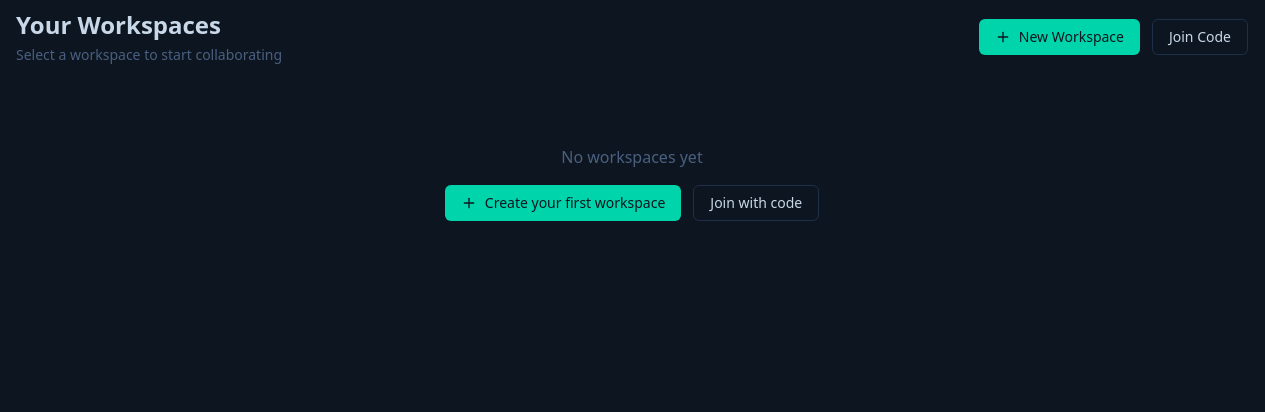
Test case: WorkspacesPage › should display error message when workspace creation fails
Click the button "New Workspace" at (1059, 37), box [979, 19, 1140, 55]
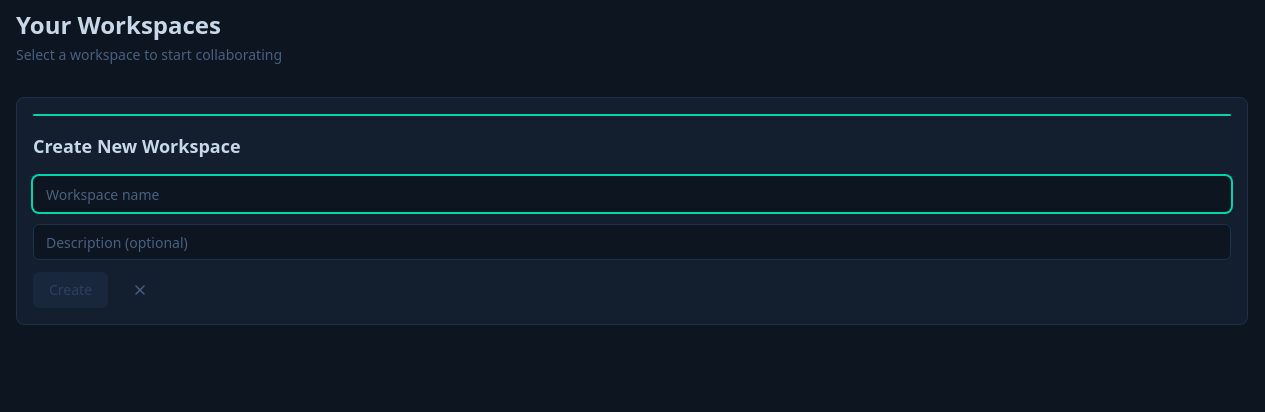
Now the heading "Create New Workspace" is shown, box [33, 134, 240, 158]
Type "Duplicate Name" into the field with placeholder "Workspace name" at (632, 194), box [33, 176, 1231, 212]
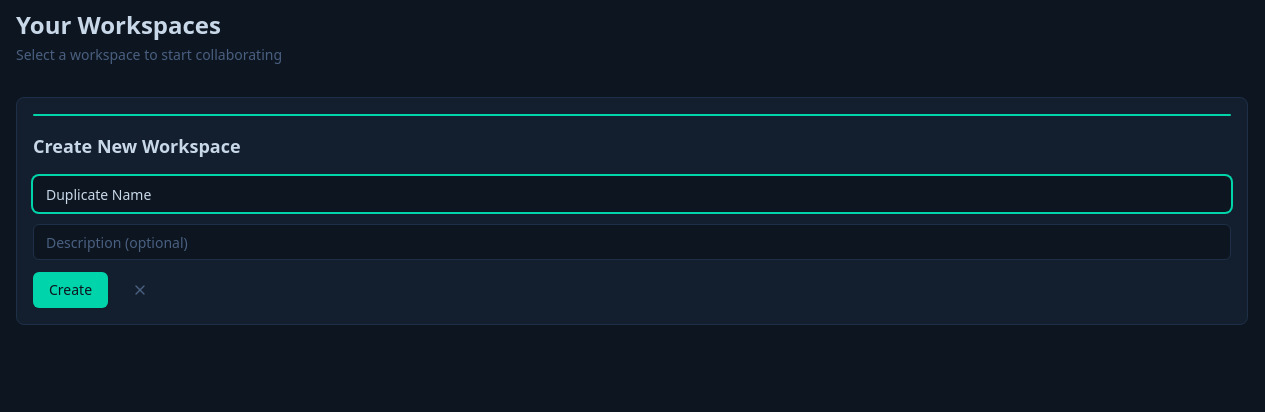
Click the button "Create" at (71, 290), box [33, 272, 108, 308]
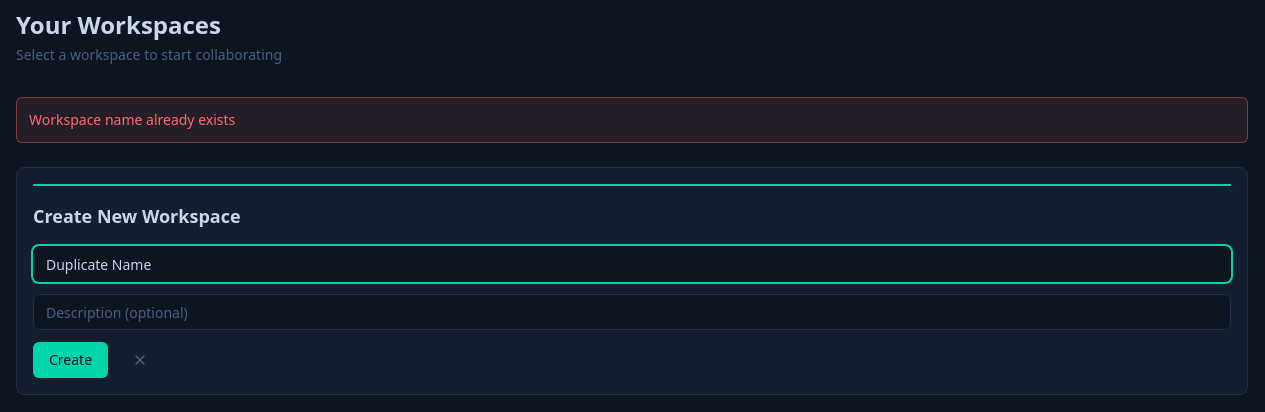
Now the heading "Create New Workspace" is shown, box [33, 204, 240, 228]
Now the text "Workspace name already exists" is shown, box [16, 97, 1248, 143]
